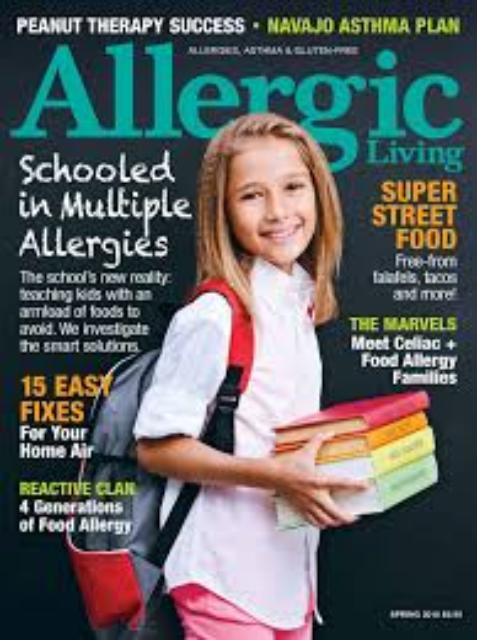cardboard paper: (0, 0, 475, 638), (273, 389, 433, 510)
